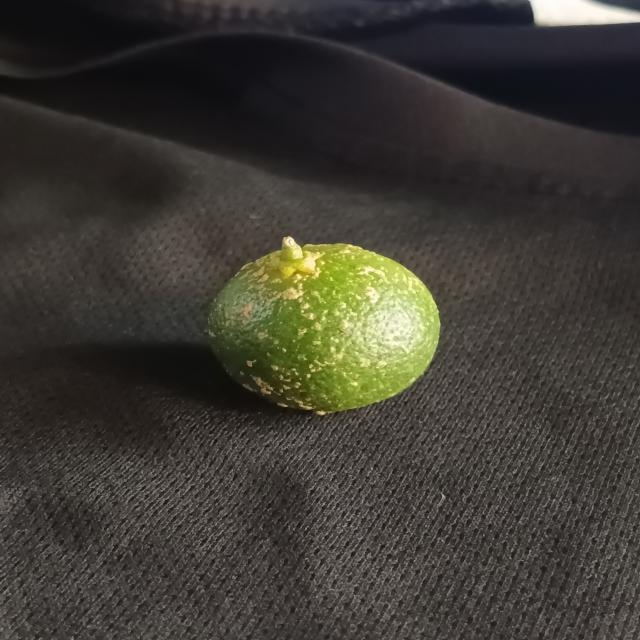scab: (198, 237, 448, 414)
